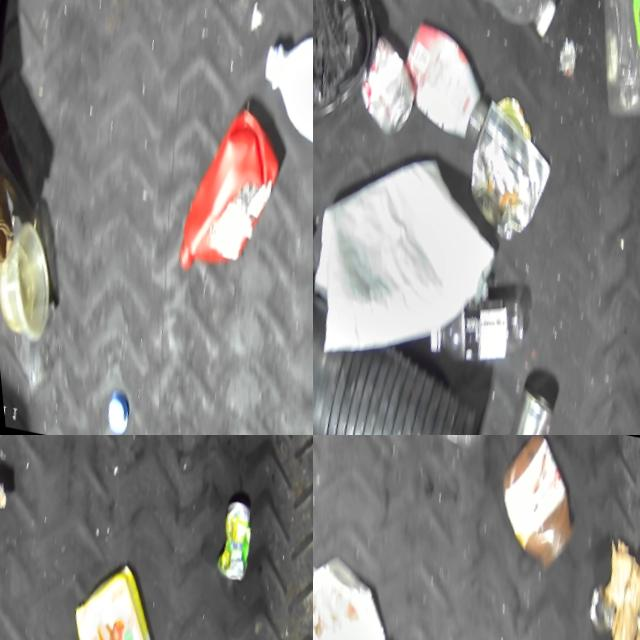can: (353, 39, 417, 132), (203, 493, 256, 580)
milk_jug: (242, 21, 313, 156), (313, 548, 411, 640)
non_white_jug: (154, 93, 291, 286), (45, 550, 171, 640)
plastic_bottle: (408, 291, 518, 372), (574, 0, 640, 113), (415, 0, 569, 40)
